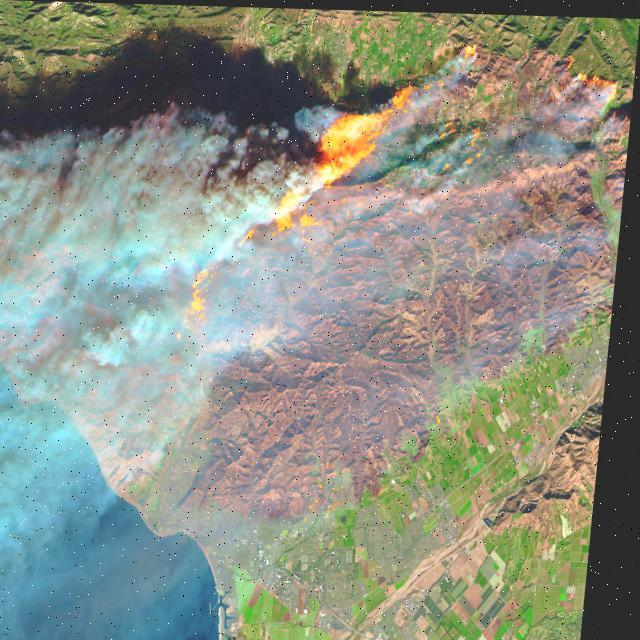Fire: (246, 77, 424, 250)
